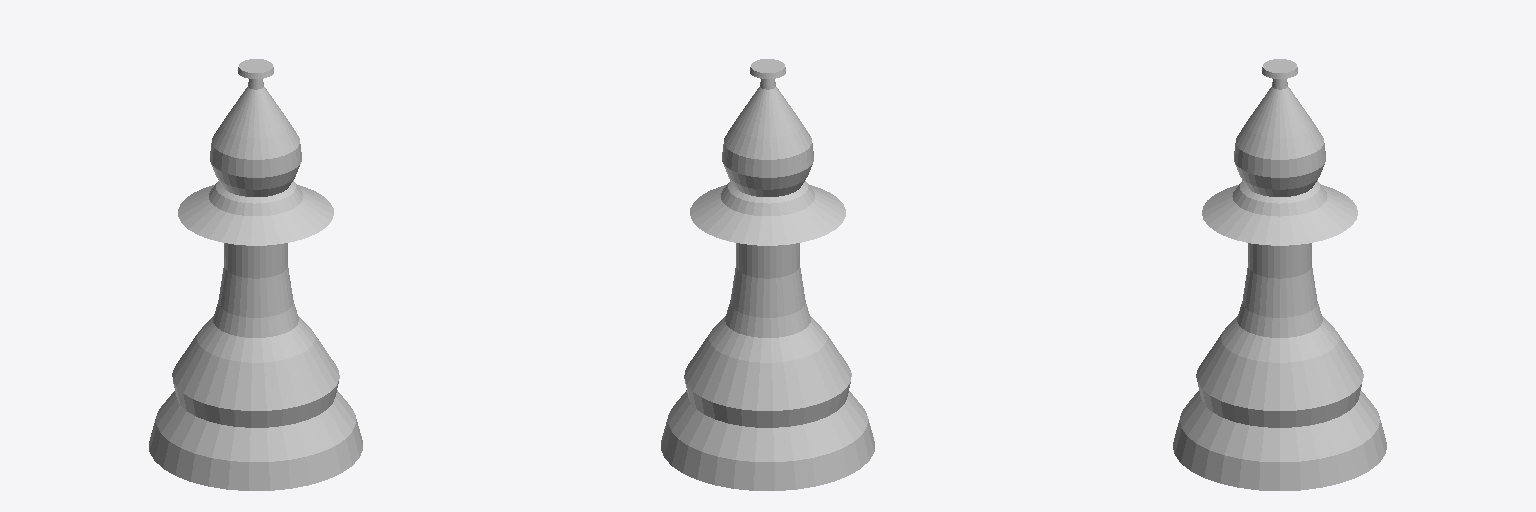
The model's file is bishop.obj.
3 renders of one model, left to right at view 1: azimuth 30°, elevation 25°; view 2: azimuth 150°, elevation 25°; view 3: azimuth 270°, elevation 25°, orthographic.
Parts seen in each view (by area): view 1: Cylinder.001; view 2: Cylinder.001; view 3: Cylinder.001.
Part boxes in pixels (bbox=[...]): Cylinder.001: bbox=[149, 59, 362, 490]; Cylinder.001: bbox=[661, 59, 874, 490]; Cylinder.001: bbox=[1173, 59, 1386, 490].
Bounding box in the file's own units: 0.5407 × 1.05 × 0.5407.